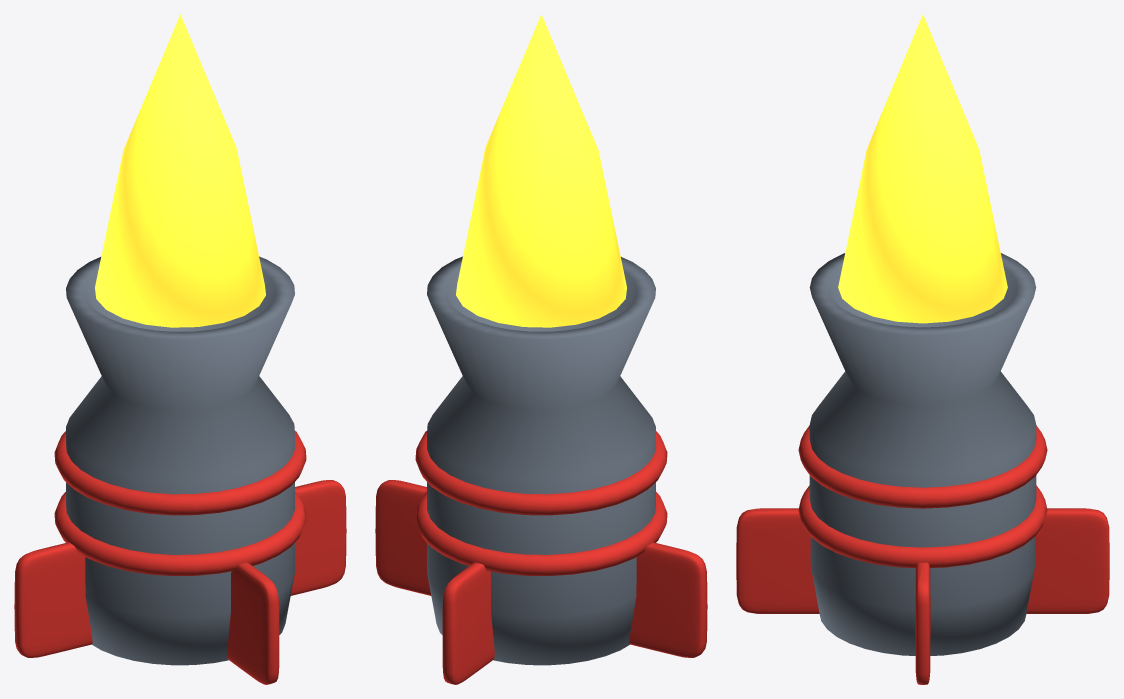
Rendered from thruster.glb.
The picture shows the model from 3 angles, left to right: view 1: azimuth 30°, elevation 25°; view 2: azimuth 150°, elevation 25°; view 3: azimuth 270°, elevation 25°; orthographic projection.
Visible parts, largest first — view 1: Body, Flame; view 2: Body, Flame; view 3: Body, Flame.
Part boxes in pixels (left/top/right/bottom): Body: left=14, top=256, right=346, bottom=684; Flame: left=95, top=14, right=265, bottom=327; Body: left=375, top=256, right=707, bottom=684; Flame: left=456, top=14, right=626, bottom=327; Body: left=736, top=253, right=1109, bottom=684; Flame: left=838, top=14, right=1007, bottom=323.
Bounding box in the file's own units: 1.98 × 3.5 × 1.98.
